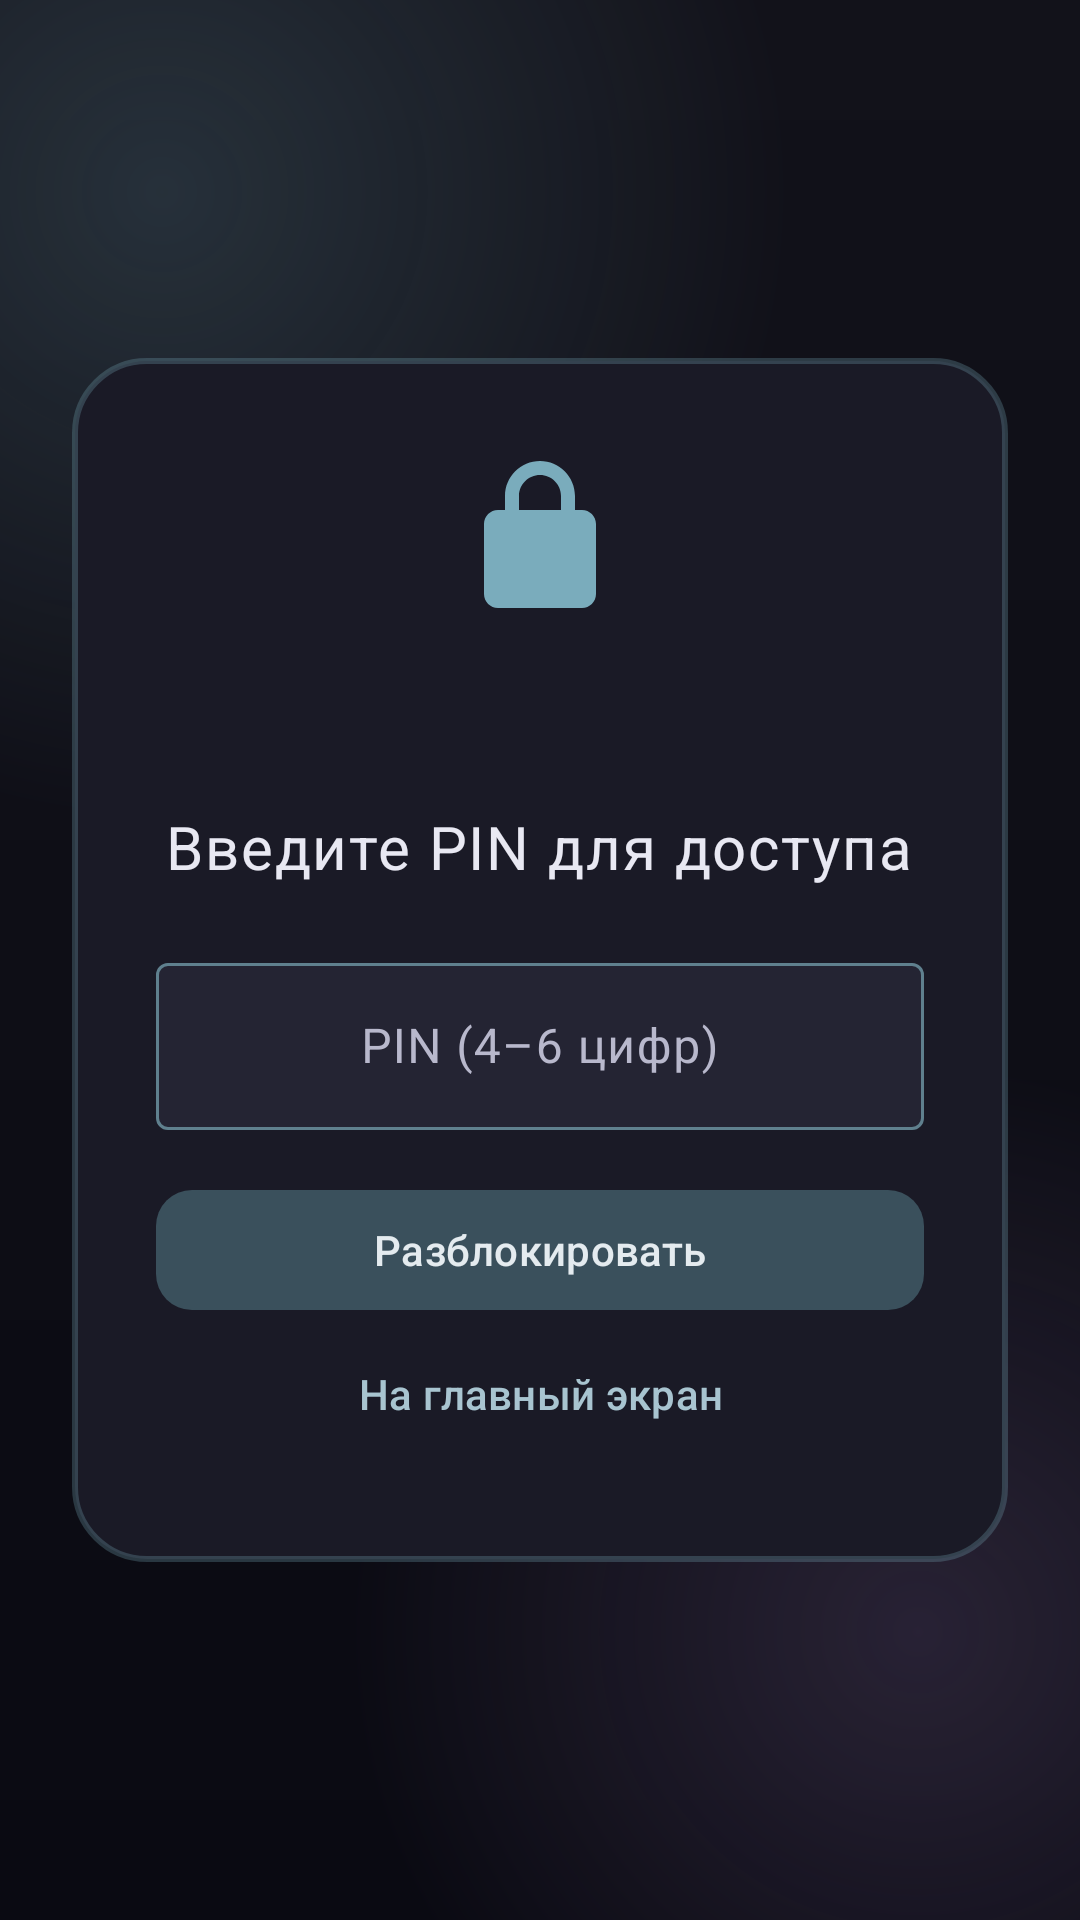

Where icons sit on this 1080px x 1920px app screen, as BBox(x1, y1, x2, y2):
feature password: BBox(484, 461, 596, 608)
